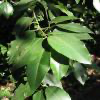Cherry leaf: (47, 32, 93, 66), (27, 43, 52, 93), (6, 30, 36, 65), (55, 20, 97, 38), (12, 16, 39, 40), (48, 16, 86, 26), (43, 86, 72, 99)
